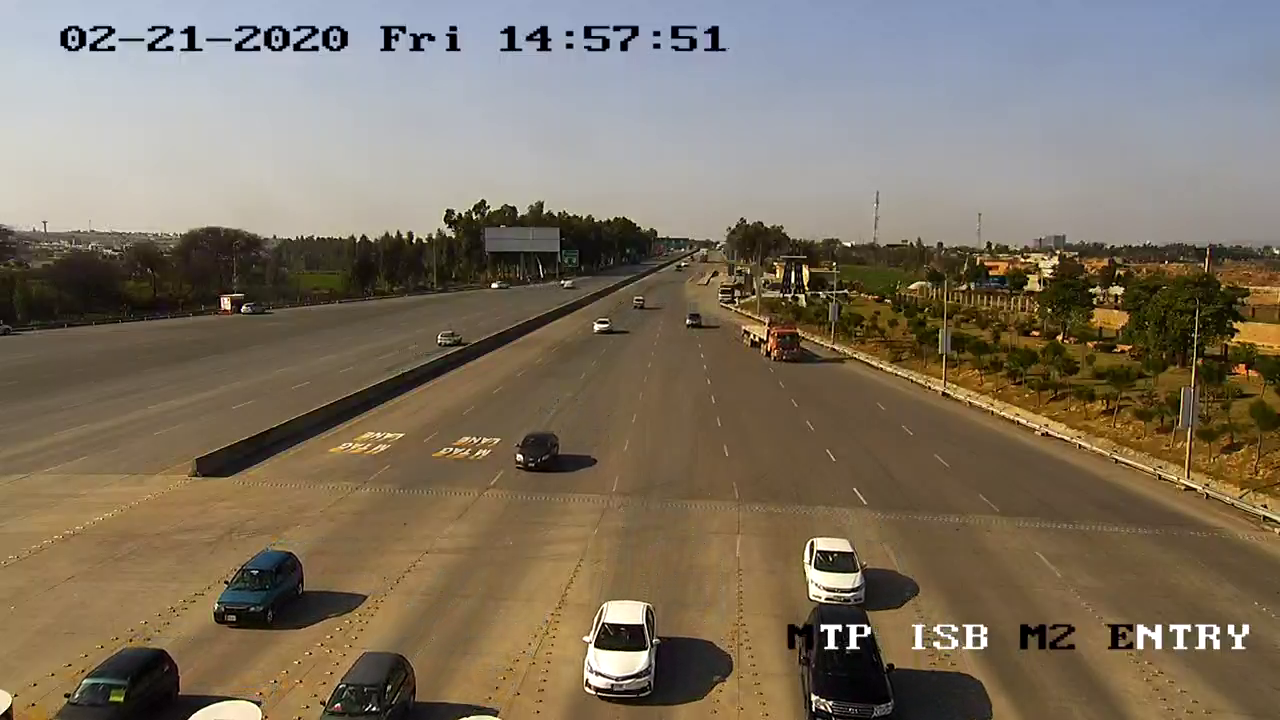f1: (788, 597, 902, 717), (572, 592, 669, 709), (202, 540, 319, 634), (314, 637, 423, 720), (794, 524, 875, 615), (503, 425, 580, 481)
